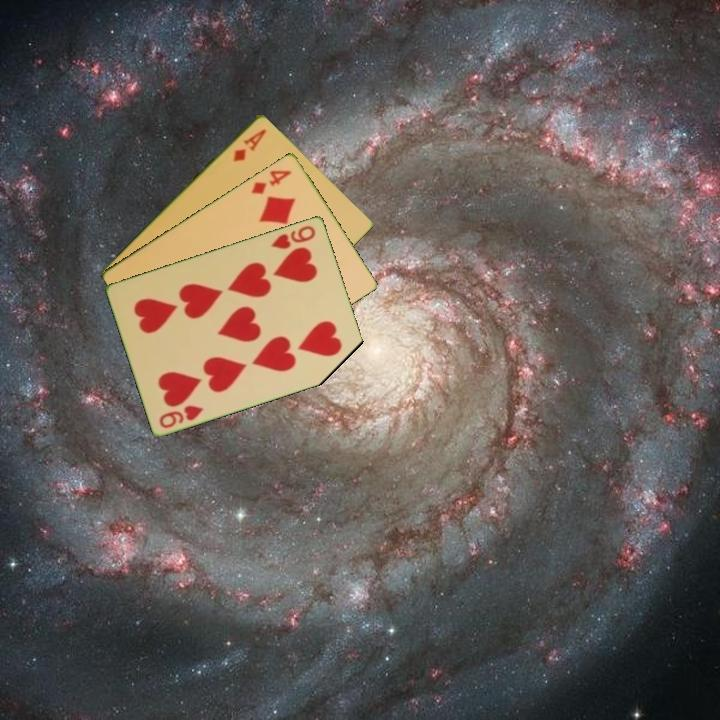4d: (248, 166, 295, 197)
9h: (267, 222, 319, 252), (156, 401, 206, 431)
Ad: (229, 125, 269, 164)
